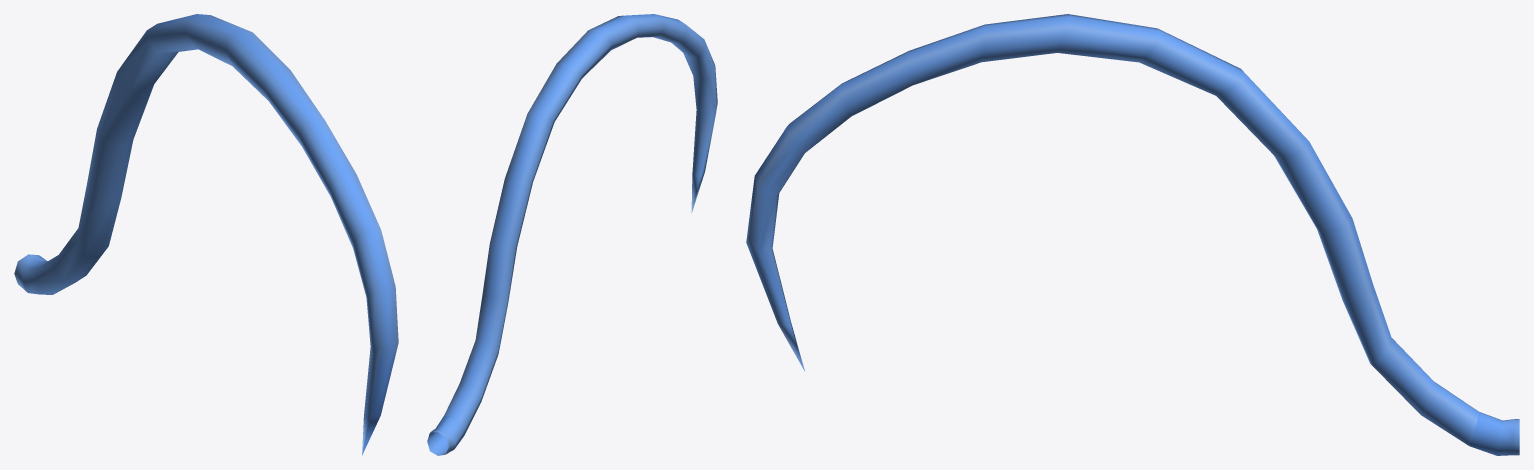
File: lightBlueVein.fbx
3 views of the same model, side by side, from view 1: azimuth 30°, elevation 25°; view 2: azimuth 150°, elevation 25°; view 3: azimuth 270°, elevation 25° (orthographic). The views are drawn at different scales.
Visible parts, largest first — view 1: pCube1; view 2: pCube1; view 3: pCube1.
Part boxes in pixels (left/top/right/bottom): pCube1: left=14, top=14, right=398, bottom=455; pCube1: left=427, top=14, right=717, bottom=455; pCube1: left=746, top=14, right=1519, bottom=455.
Size of the model in its own units: 0.1726 by 2.01 by 3.22.
Materials: 1 (1 with a texture image).
